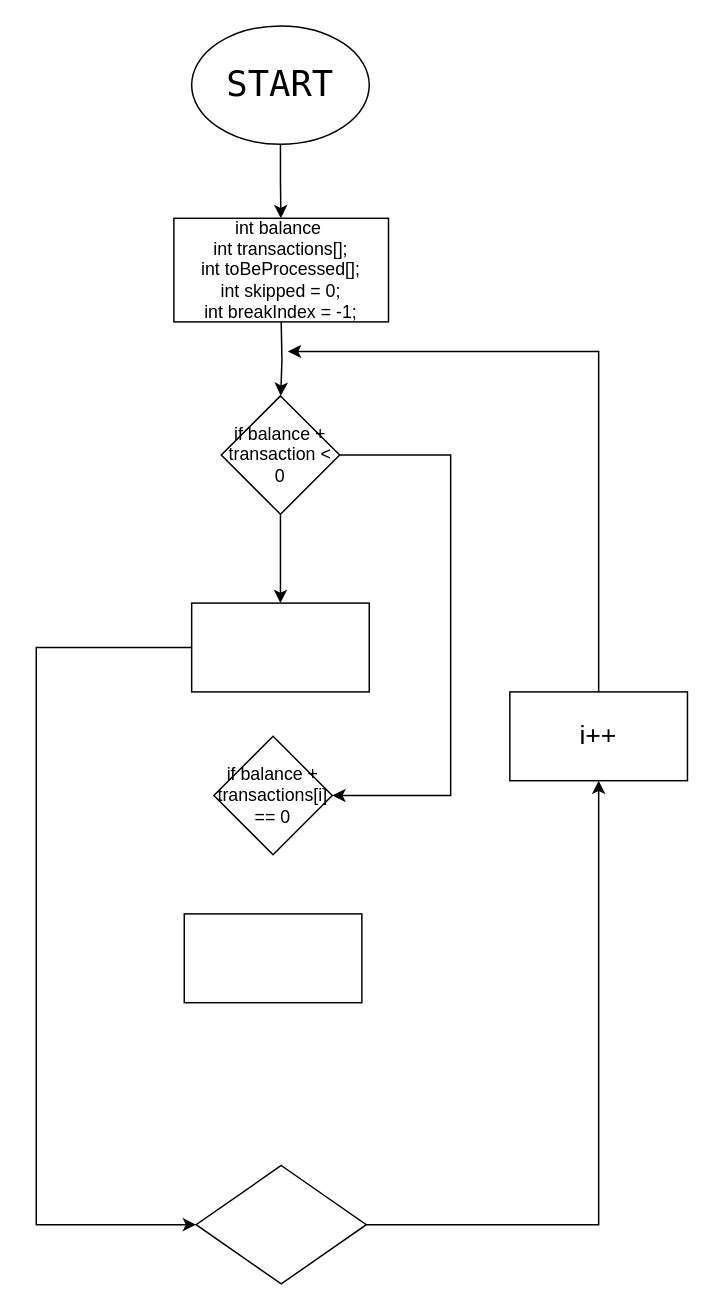
Some shapes in this 713 by 1310 pixel diagram are drawn without their labels. The shapes that lost their labels are listed below. From the top down, each one's box as (x1, y1, x2, y2) in pixels, then its label:
(190, 602, 369, 692): toBeProcessed[skipped++] = transactions[i]
(195, 1164, 366, 1284): i < transactions ?
